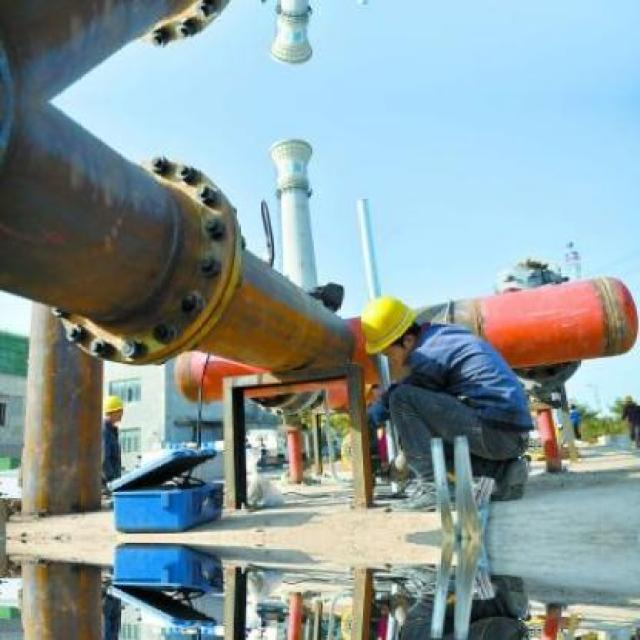helmet: (352, 286, 426, 366), (98, 388, 127, 428)
